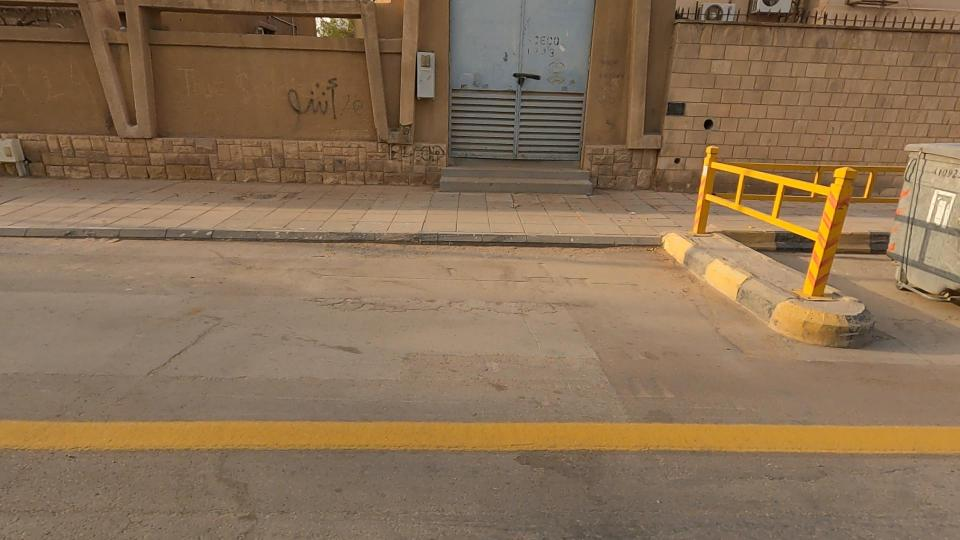GRAFFITI: (233, 37, 393, 164), (152, 46, 272, 140)
